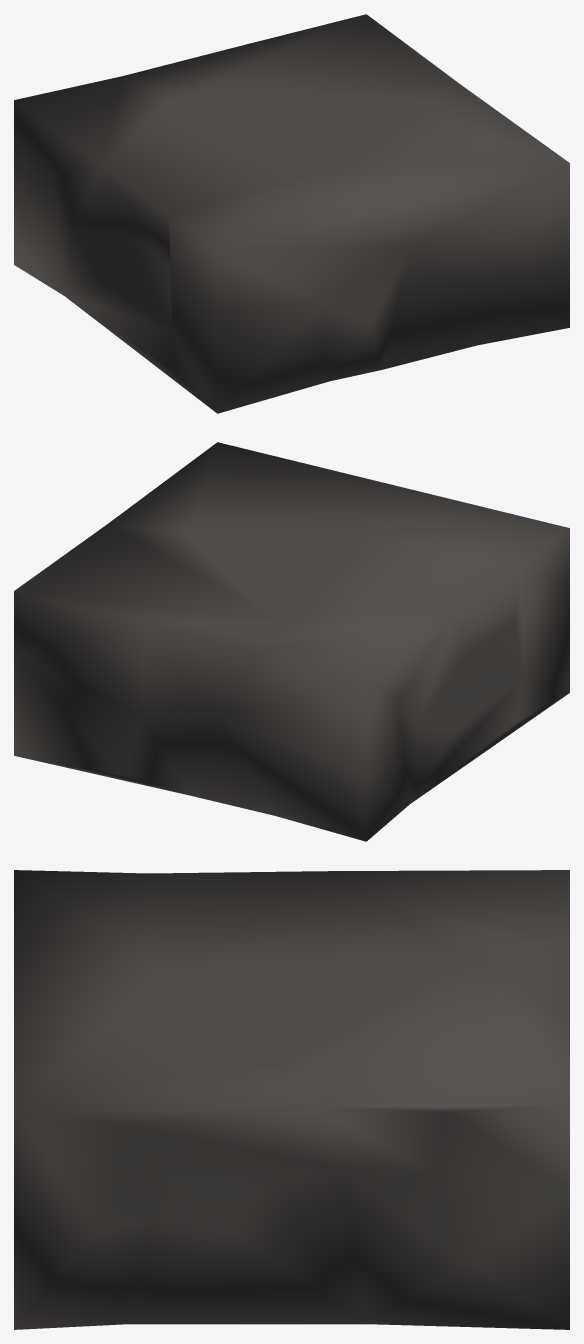
File: underrock_3.glb
3 renders of one model, top to bottom at view 1: azimuth 30°, elevation 25°; view 2: azimuth 150°, elevation 25°; view 3: azimuth 270°, elevation 25°, orthographic. The views are drawn at different scales.
Visible parts, largest first — view 1: underrock_3; view 2: underrock_3; view 3: underrock_3.
Part boxes in pixels (left/top/right/bottom): underrock_3: left=14, top=14, right=569, bottom=413; underrock_3: left=14, top=442, right=569, bottom=841; underrock_3: left=14, top=870, right=569, bottom=1329.
Size of the model in its own units: 2.8 by 1.25 by 2.8.
1 material, 1 textured.
